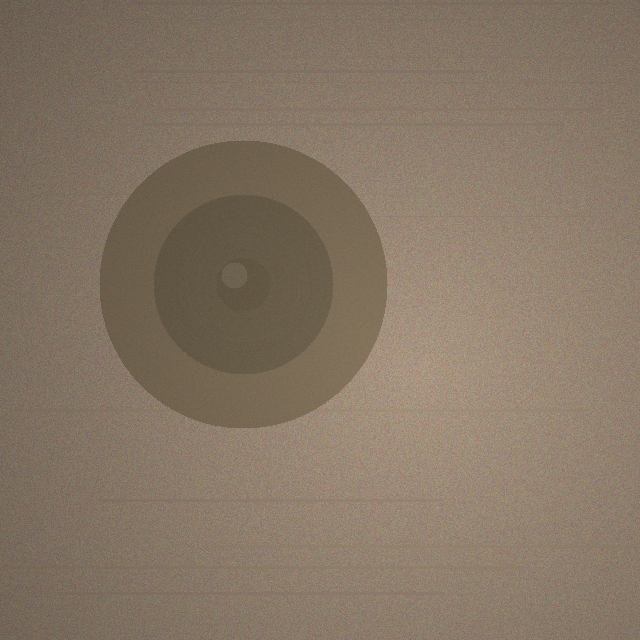good: (99, 140, 387, 428)
